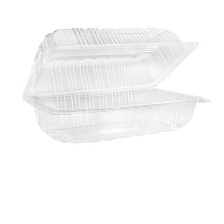plastic_box: (17, 15, 217, 152)
